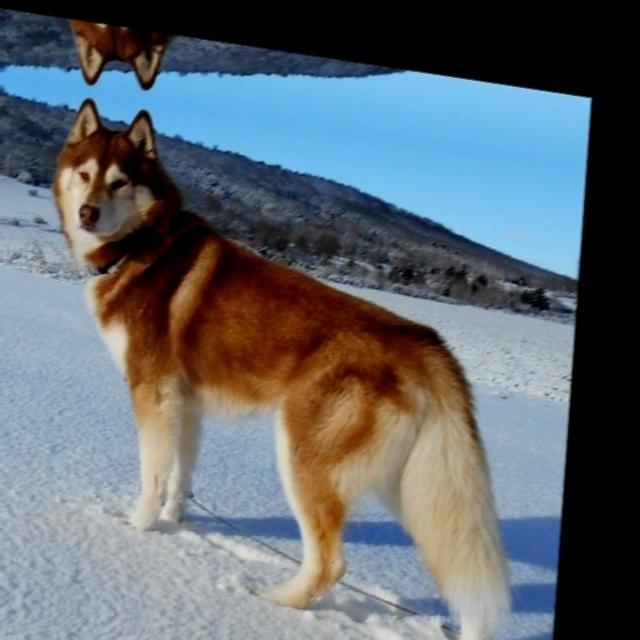dog: (25, 97, 548, 640), (60, 18, 553, 150)
